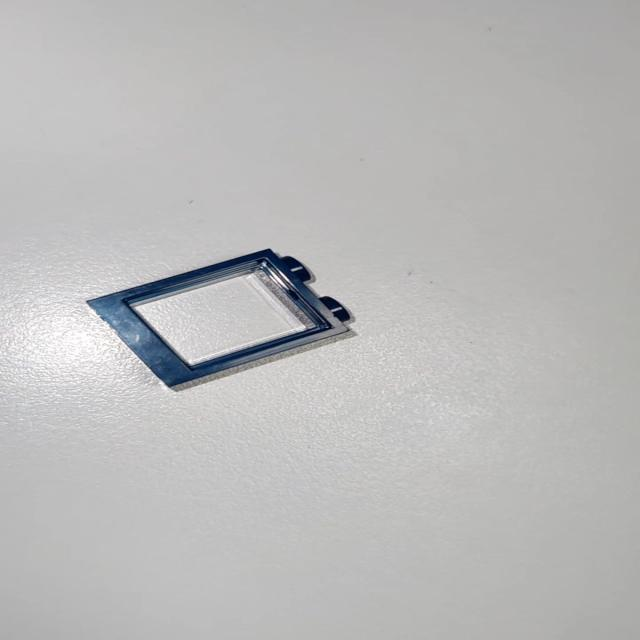W2x1x2: (89, 245, 367, 393)
